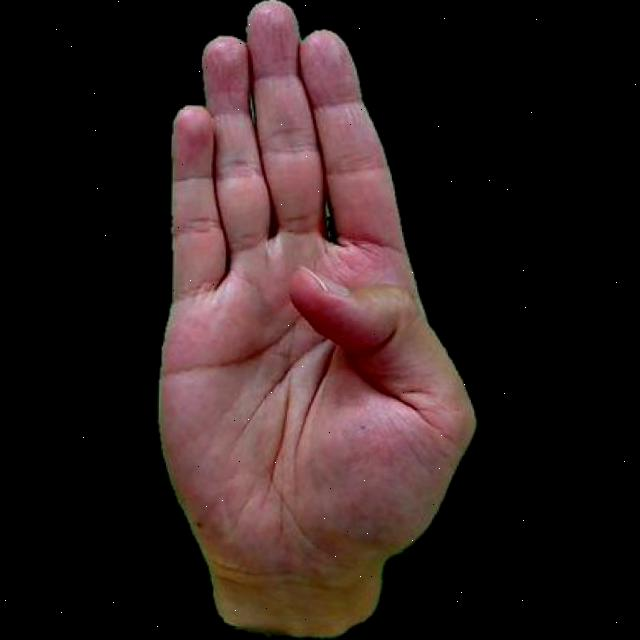b: (144, 0, 490, 640)
